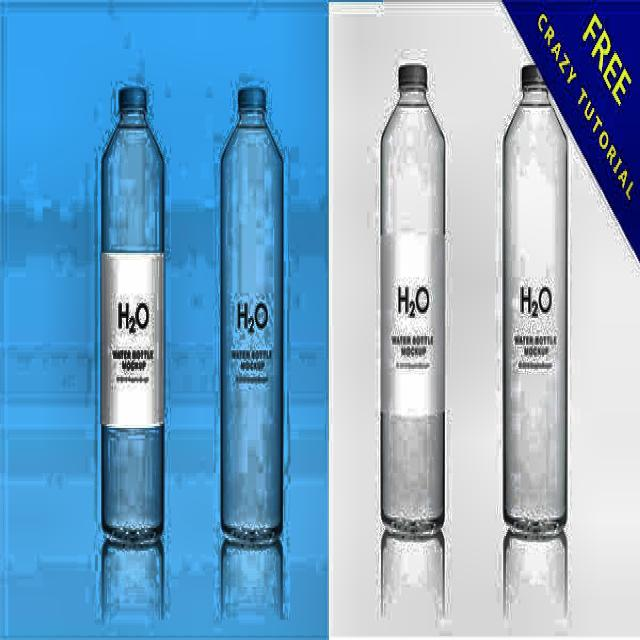Bottles: (372, 48, 451, 549), (91, 72, 171, 554)
